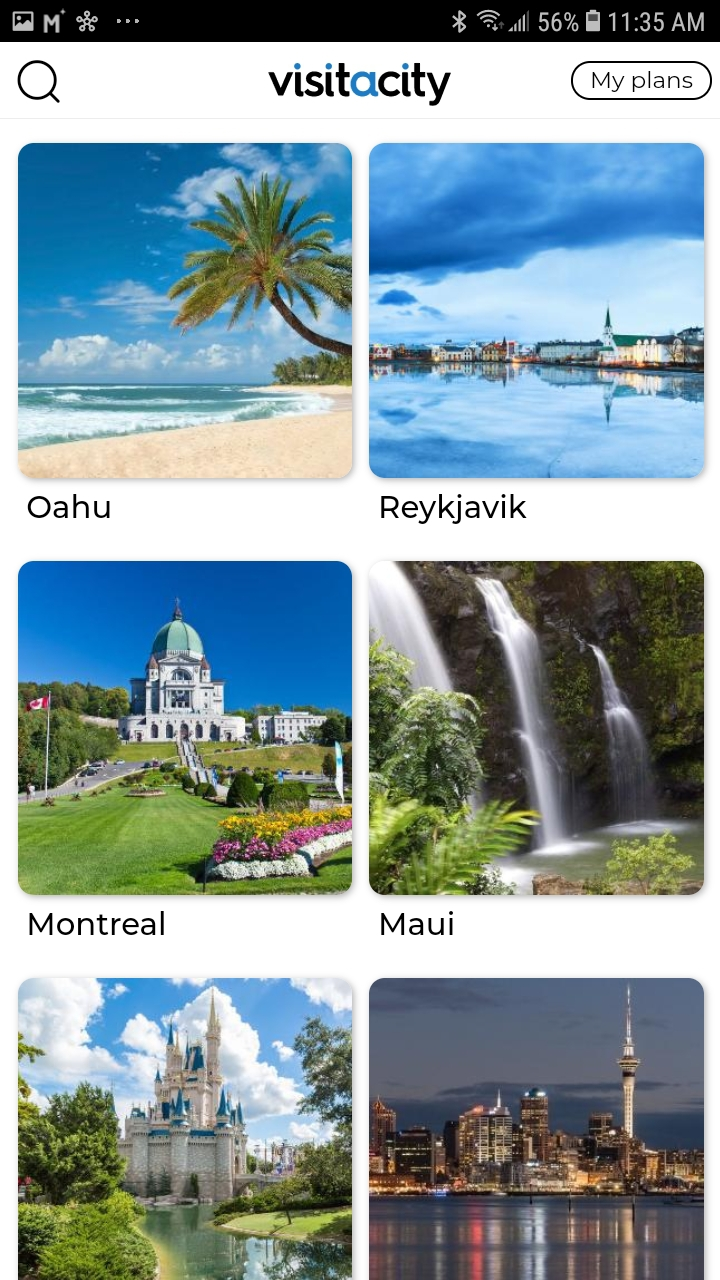Icon: (17, 61, 61, 105)
Image: (369, 561, 705, 896), (18, 143, 353, 479), (18, 561, 353, 896), (369, 144, 704, 479), (369, 978, 704, 1280), (18, 978, 353, 1280), (268, 63, 452, 108)
Text: (380, 494, 527, 525), (29, 910, 165, 936), (28, 493, 111, 519), (381, 910, 454, 936)
TextButton: (571, 62, 713, 102)
UpperTaskBar: (1, 1, 720, 43)
